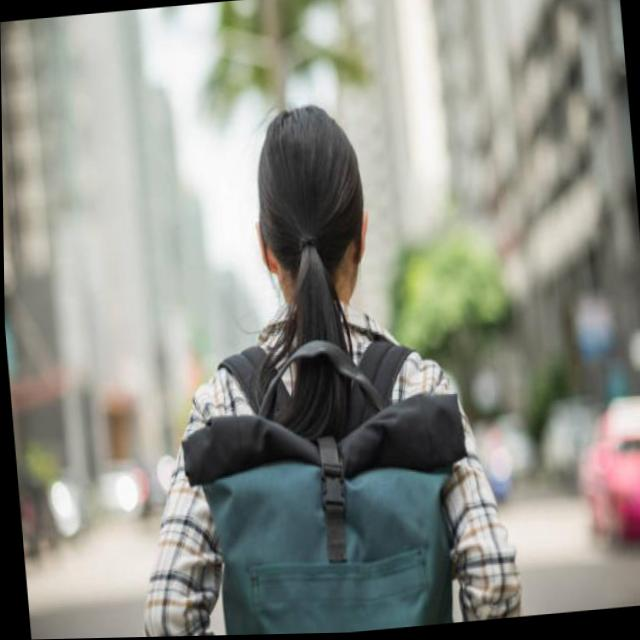no helmet: (244, 97, 382, 327)
